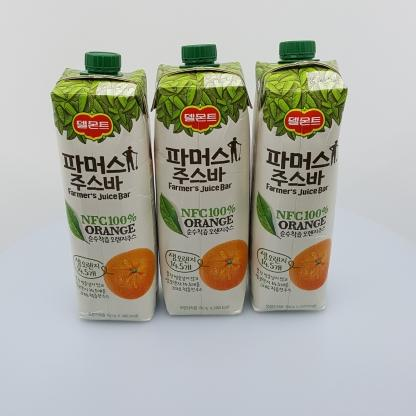------------1L: (50, 51, 159, 322), (151, 44, 253, 315), (247, 40, 348, 312)
